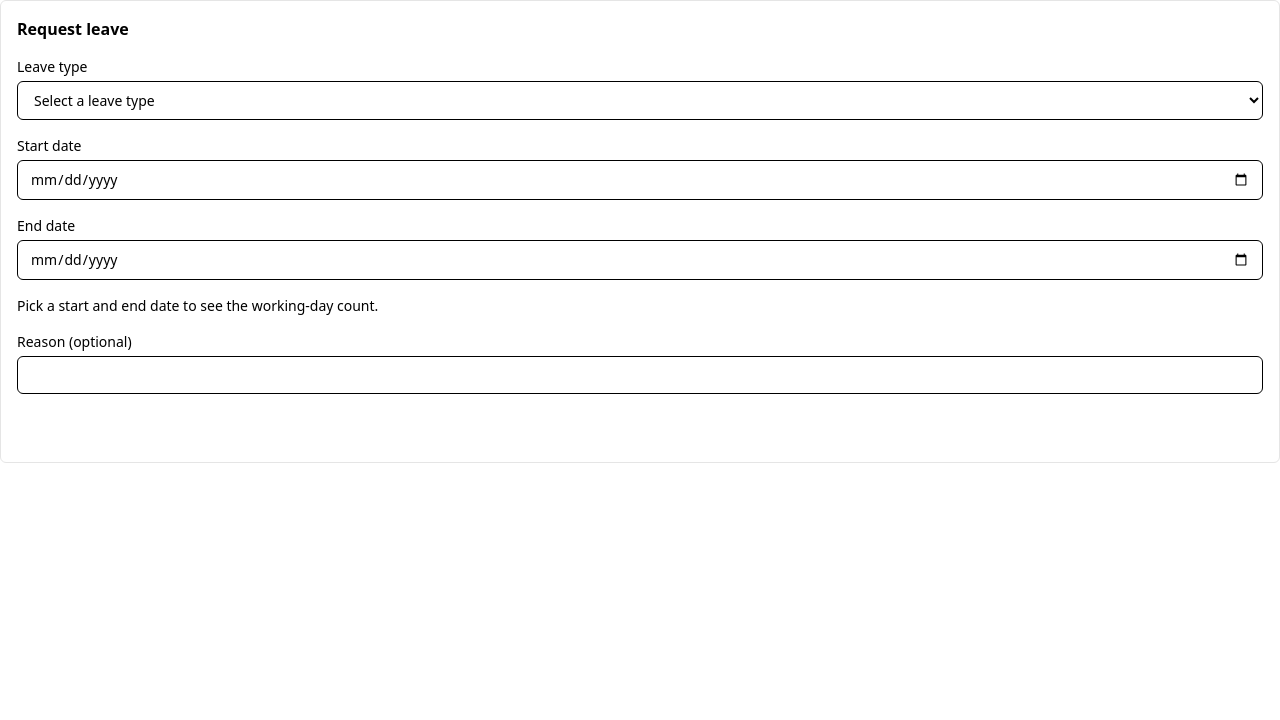
it: LeaveSubmitForm › shows a live working-days preview and the balance for the selected type once both dates are picked
The image size is (1280, 720).
Select "Annual Leave" in the dropdown labelled "Leave type" at (640, 100), box [17,81,1263,120]
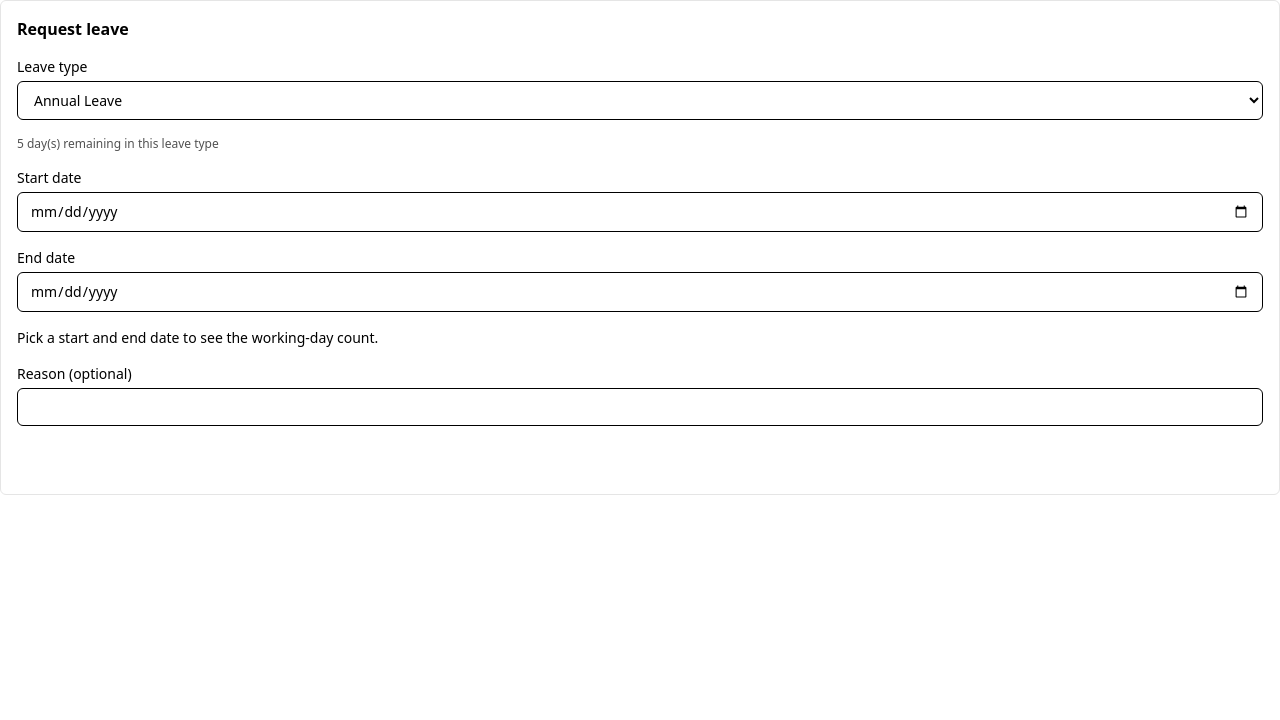
Now the text "5 day(s) remaining in this leave type" is shown, box [17,135,219,152]
Type "2026-08-03" into the date field labelled "Start date" at (640, 212), box [17,192,1263,232]
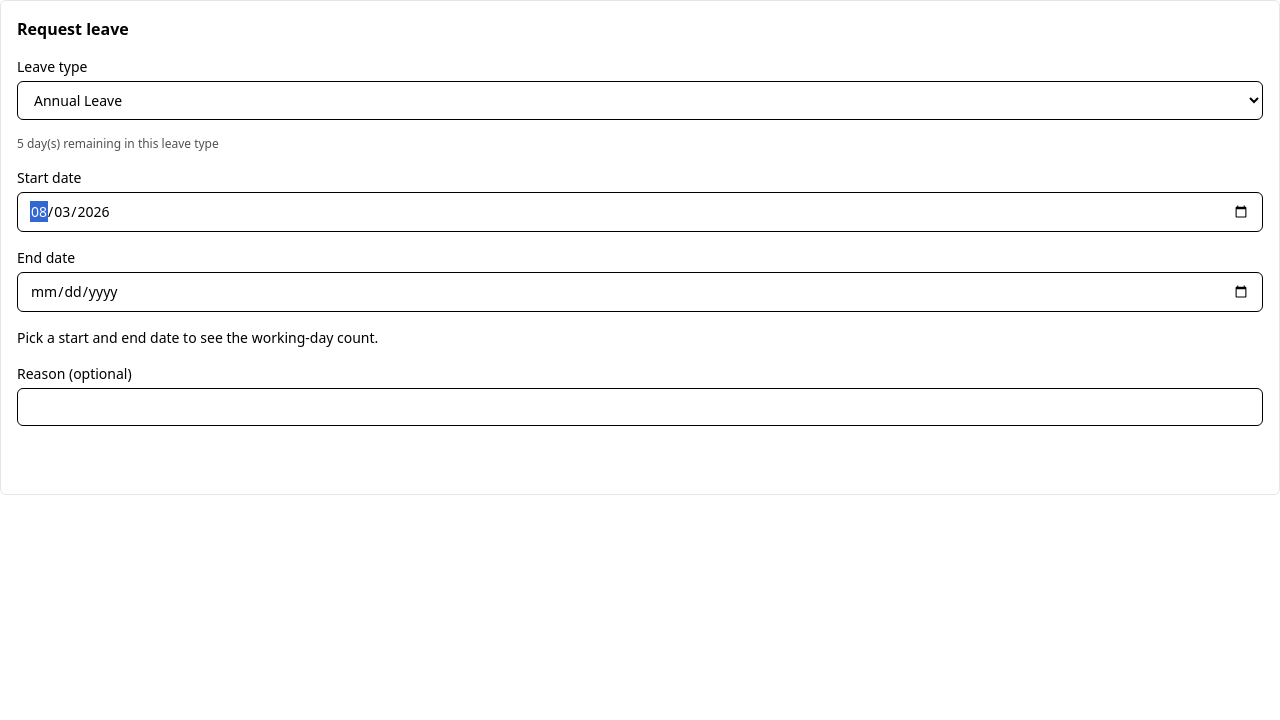
Type "2026-08-05" into the date field labelled "End date" at (640, 292), box [17,272,1263,312]
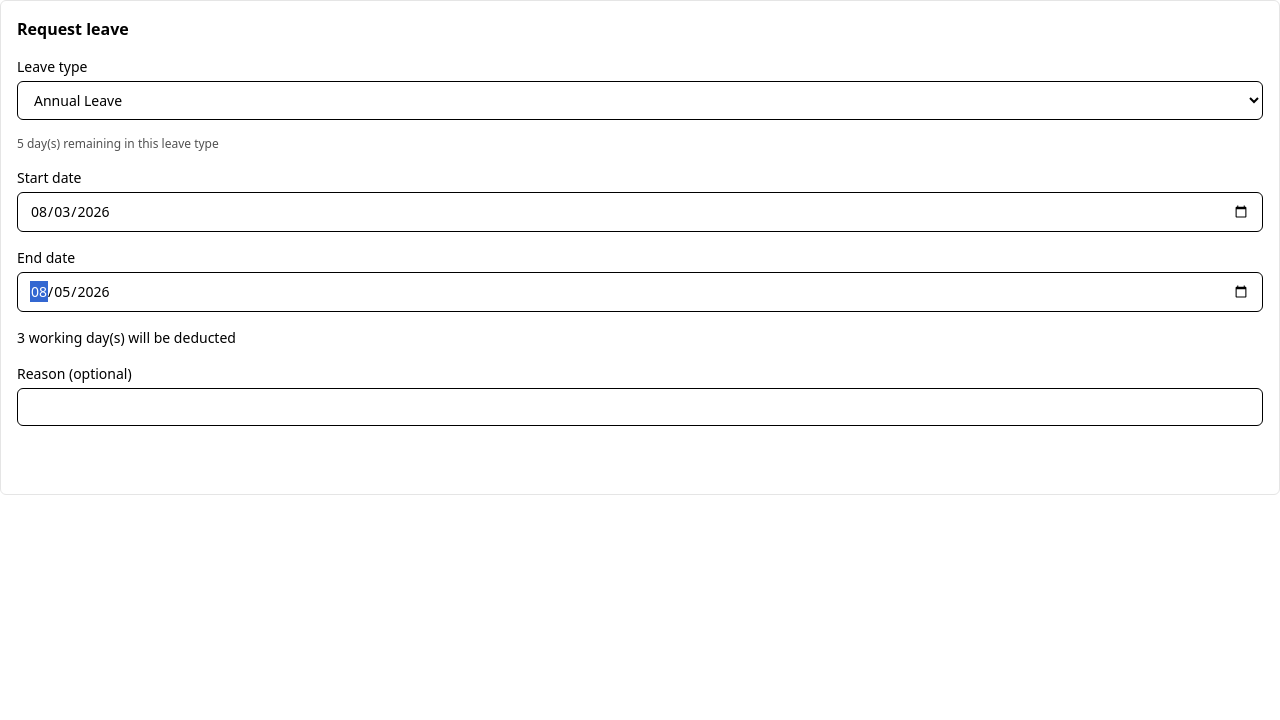
Now the text "3 working day(s) will be deducted" is shown, box [17,328,236,347]
